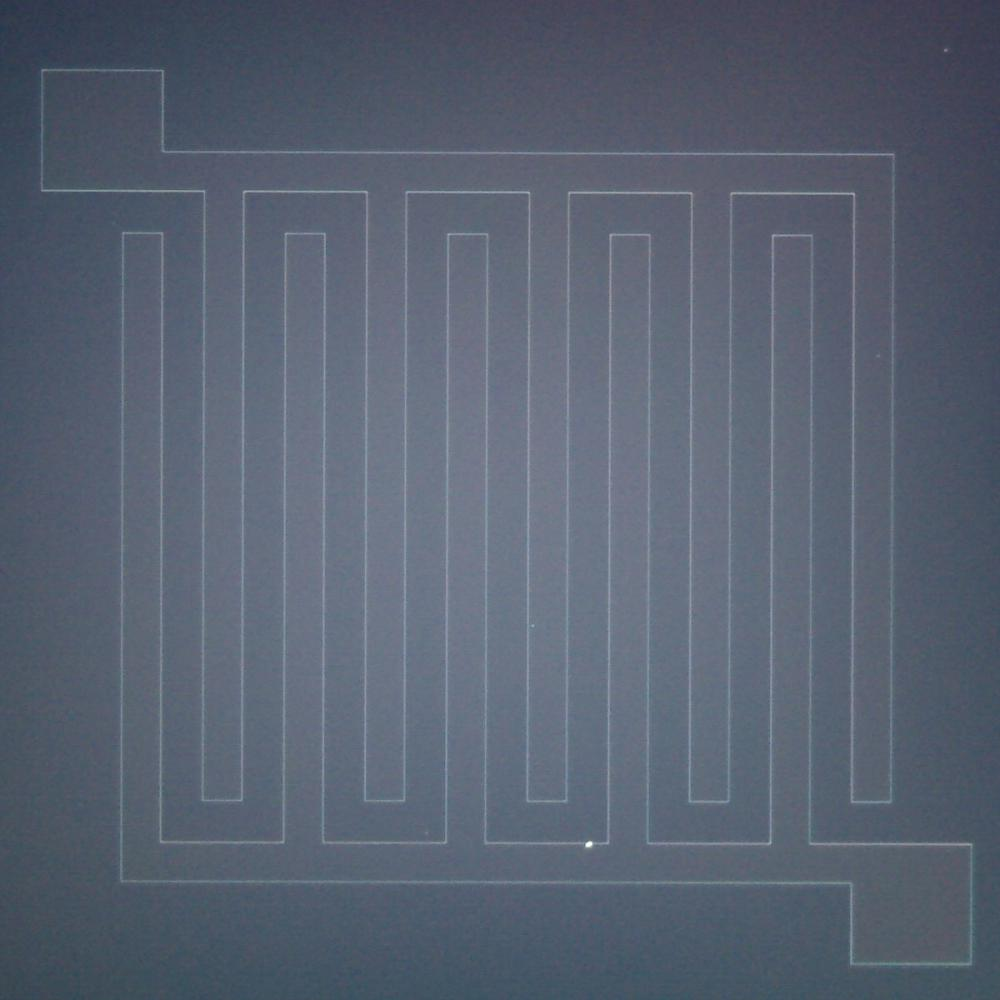dot: (586, 842, 592, 848), (530, 624, 535, 628), (877, 354, 881, 358), (944, 48, 948, 52), (425, 831, 428, 834)
